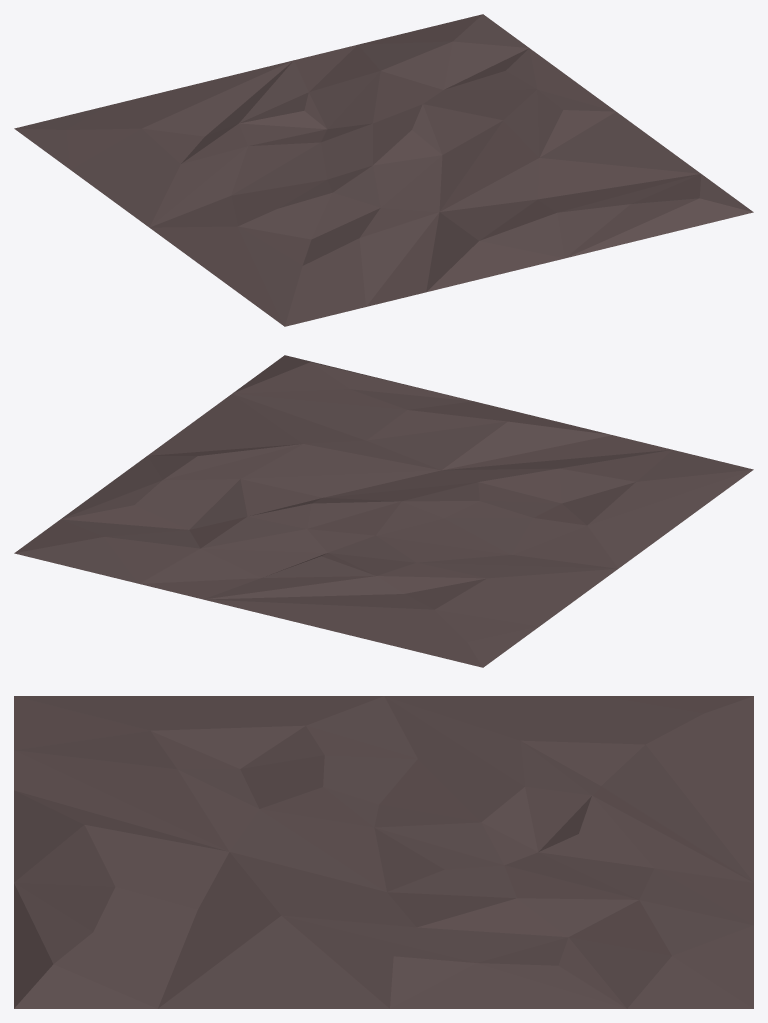
Rendered from TB_D_Env_Tile_Sand_C.FBX.
3 views of the same model, one above another, from view 1: azimuth 30°, elevation 25°; view 2: azimuth 150°, elevation 25°; view 3: azimuth 270°, elevation 25° (orthographic). The views are drawn at different scales.
Parts seen in each view (by area): view 1: TB_D_Env_Tile_Sand_C; view 2: TB_D_Env_Tile_Sand_C; view 3: TB_D_Env_Tile_Sand_C.
Boxes of the visible parts, x1=… form: TB_D_Env_Tile_Sand_C: x1=14, y1=14, x2=753, y2=326; TB_D_Env_Tile_Sand_C: x1=14, y1=355, x2=753, y2=667; TB_D_Env_Tile_Sand_C: x1=14, y1=696, x2=753, y2=1008.
Size of the model in its own units: 20 by 0.5404 by 20.
